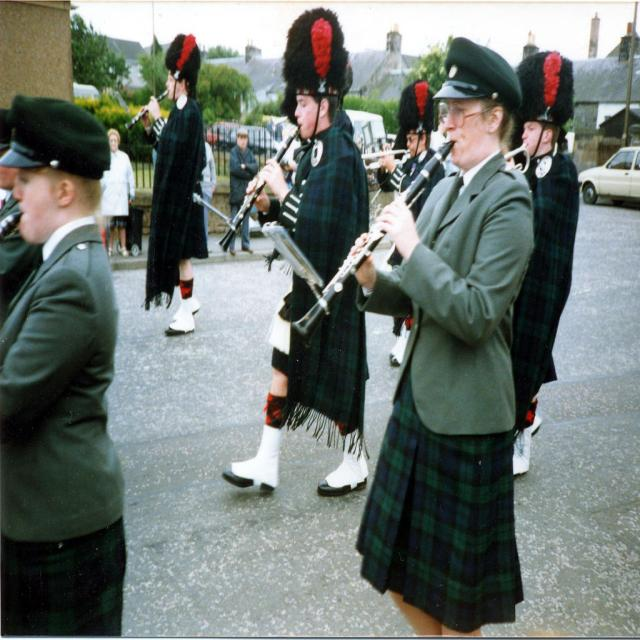clarinet: (289, 140, 457, 355), (218, 124, 302, 254), (123, 88, 173, 135)
